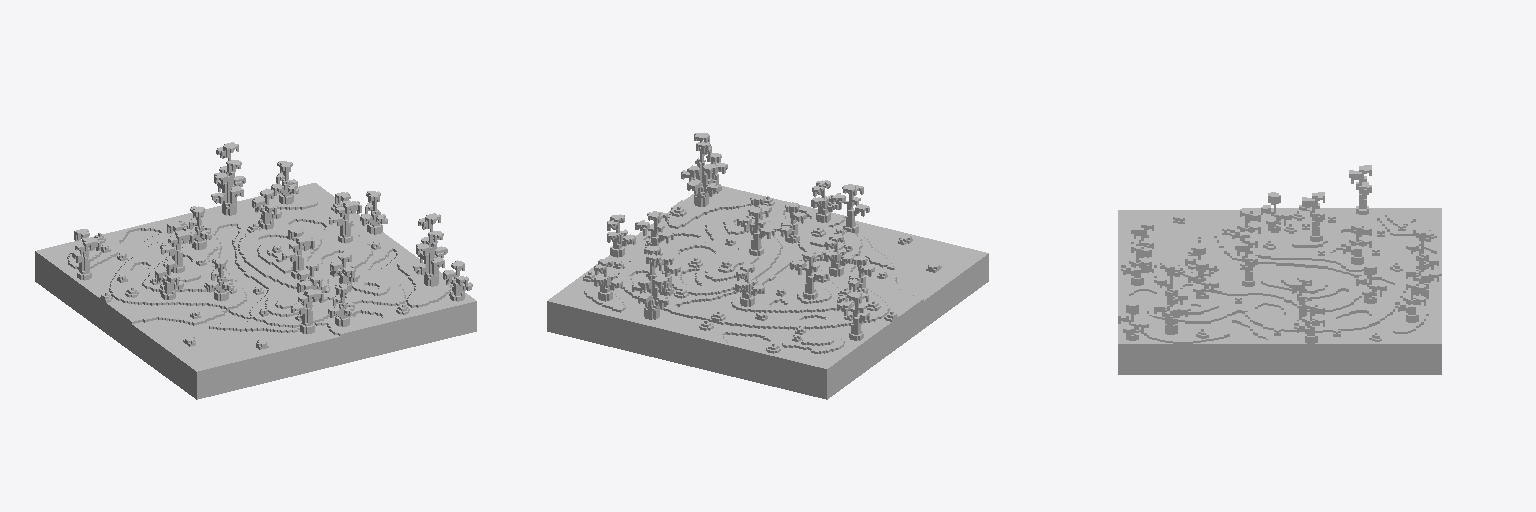
Rendered from Map (20).obj.
3 views of the same model, side by side, from view 1: azimuth 30°, elevation 25°; view 2: azimuth 150°, elevation 25°; view 3: azimuth 270°, elevation 25° (orthographic).
Parts seen in each view (by area): view 1: ALL MAP!!!!!!!!!!!-17; view 2: ALL MAP!!!!!!!!!!!-17; view 3: ALL MAP!!!!!!!!!!!-17.
Boxes of the visible parts, box(x1,y1,x2,y2) form: ALL MAP!!!!!!!!!!!-17: box(35, 142, 476, 399); ALL MAP!!!!!!!!!!!-17: box(547, 133, 988, 399); ALL MAP!!!!!!!!!!!-17: box(1118, 165, 1441, 374).
Size of the model in its own units: 125 by 43 by 125.